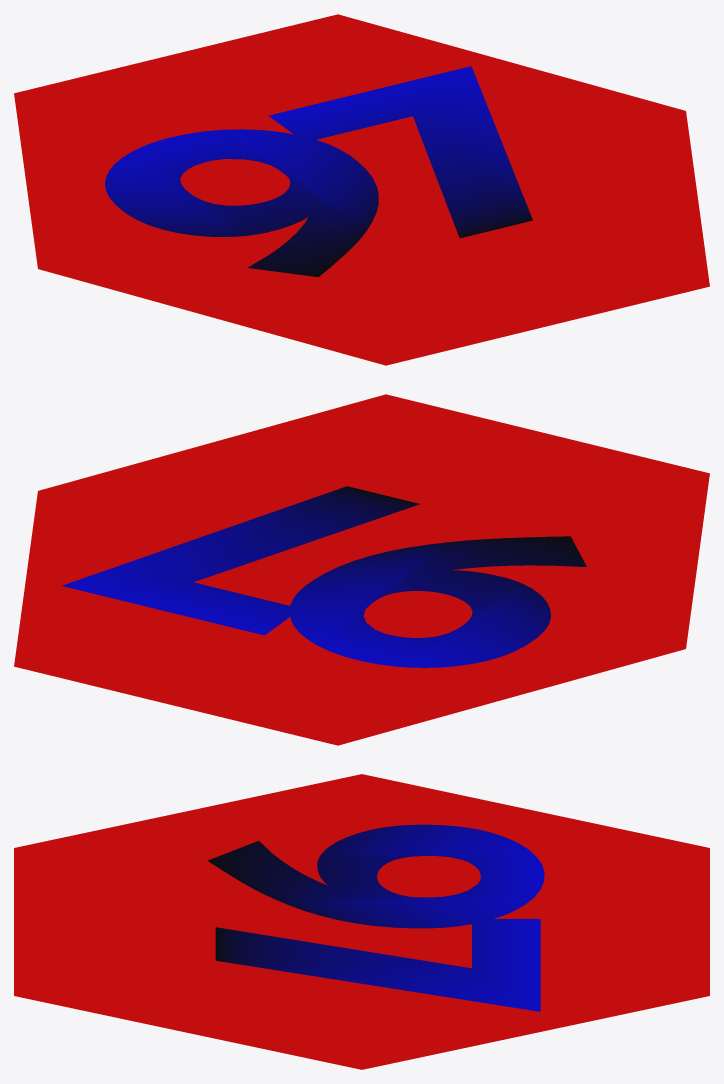
The model's file is SM_Number_97.fbx.
3 views of the same model, one above another, from view 1: azimuth 30°, elevation 25°; view 2: azimuth 150°, elevation 25°; view 3: azimuth 270°, elevation 25° (orthographic). The views are drawn at different scales.
Parts seen in each view (by area): view 1: FBX_OUT; view 2: FBX_OUT; view 3: FBX_OUT.
Part boxes in pixels (x1,y1,x2,y2): FBX_OUT: [14, 14, 709, 365]; FBX_OUT: [14, 394, 709, 745]; FBX_OUT: [14, 774, 709, 1069].
Size of the model in its own units: 50 by 0.2917 by 49.71.
